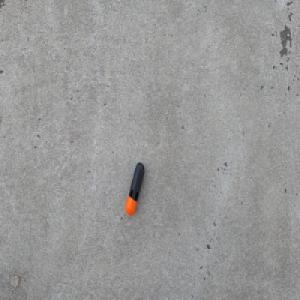PlasticPart: (125, 161, 145, 216)
